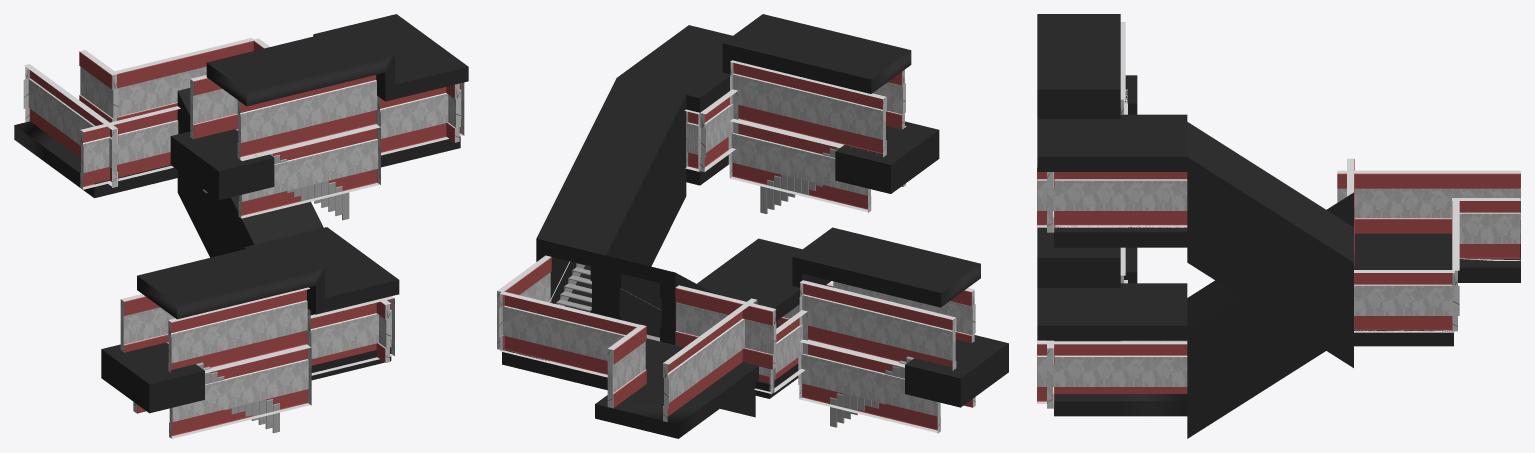
File: Corridor_2_uv.fbx
The picture shows the model from 3 angles, left to right: view 1: azimuth 30°, elevation 25°; view 2: azimuth 150°, elevation 25°; view 3: azimuth 270°, elevation 25°; orthographic projection. The views are drawn at different scales.
Parts seen in each view (by area): view 1: polySurface29, polySurface28, polySurface27, A_bridge_coridor_1x4x6_70, A_bridge_coridor_1x4x6_68, A_stairs_coridor_10x14x3_5, A_bridge_coridor_4x4x6_4, A_bridge_coridor_4x4x6_5, A_bridge_coridor_1x4x6_12, A_stairs_2x3x4_19, A_bridge_coridor_1x4x8_39, A_bridge_coridor_1x4x8_38 (+1 smaller); view 2: A_stairs_coridor_10x14x3_6, polySurface27, polySurface28, polySurface29, A_bridge_coridor_1x4x6_70, A_bridge_coridor_1x4x6_68, A_bridge_coridor_1x4x6_12, A_stairs_coridor_10x14x3_5, A_bridge_coridor_4x4x6_5, A_bridge_coridor_4x4x6_4, A_stairs_2x3x4_19, A_stairs_coridor_7x10x3_5 (+3 smaller); view 3: A_stairs_coridor_10x14x3_6, polySurface27, A_bridge_coridor_1x4x6_70, A_stairs_coridor_10x14x3_5, A_bridge_coridor_1x4x6_68, polySurface28, polySurface29, A_bridge_coridor_1x4x6_12, A_bridge_coridor_1x4x8_38, A_bridge_coridor_1x4x6_69, A_bridge_coridor_1x4x8_39, A_bridge_coridor_4x4x6_5 (+1 smaller).
Boxes of the visible parts, x1,y1,x2,y2 form: polySurface29: (120, 287, 394, 438); polySurface28: (190, 75, 464, 218); polySurface27: (23, 38, 269, 189); A_bridge_coridor_1x4x6_70: (206, 14, 468, 106); A_bridge_coridor_1x4x6_68: (137, 227, 399, 319); A_stairs_coridor_10x14x3_5: (177, 88, 323, 257); A_bridge_coridor_4x4x6_4: (101, 342, 204, 413); A_bridge_coridor_4x4x6_5: (170, 129, 274, 200); A_bridge_coridor_1x4x6_12: (14, 121, 177, 198); A_stairs_2x3x4_19: (308, 181, 349, 220); A_bridge_coridor_1x4x8_39: (381, 136, 460, 167); A_bridge_coridor_1x4x8_38: (310, 311, 391, 380); A_stairs_coridor_10x14x3_6: (536, 78, 686, 316); polySurface27: (497, 255, 776, 422); polySurface28: (684, 60, 906, 212); polySurface29: (754, 280, 975, 433); A_bridge_coridor_1x4x6_70: (617, 14, 911, 112); A_bridge_coridor_1x4x6_68: (697, 227, 980, 321); A_bridge_coridor_1x4x6_12: (502, 338, 758, 438); A_stairs_coridor_10x14x3_5: (606, 255, 755, 417); A_bridge_coridor_4x4x6_5: (835, 121, 939, 193); A_bridge_coridor_4x4x6_4: (905, 335, 1008, 407); A_stairs_2x3x4_19: (760, 174, 801, 213); A_stairs_coridor_7x10x3_5: (556, 263, 591, 311); A_stairs_coridor_10x14x3_6: (1187, 122, 1353, 367); polySurface27: (1337, 158, 1520, 332); A_bridge_coridor_1x4x6_70: (1037, 14, 1187, 171); A_stairs_coridor_10x14x3_5: (1187, 192, 1353, 438); A_bridge_coridor_1x4x6_68: (1037, 227, 1187, 340); polySurface28: (1037, 22, 1187, 232); polySurface29: (1037, 247, 1187, 408); A_bridge_coridor_1x4x6_12: (1354, 233, 1520, 346); A_bridge_coridor_1x4x8_38: (1054, 394, 1187, 416); A_bridge_coridor_1x4x6_69: (1120, 226, 1187, 247); A_bridge_coridor_1x4x8_39: (1054, 225, 1120, 247); A_bridge_coridor_4x4x6_5: (1125, 75, 1137, 114).
Bounding box in the file's own units: 2302 × 2450 × 2901.
